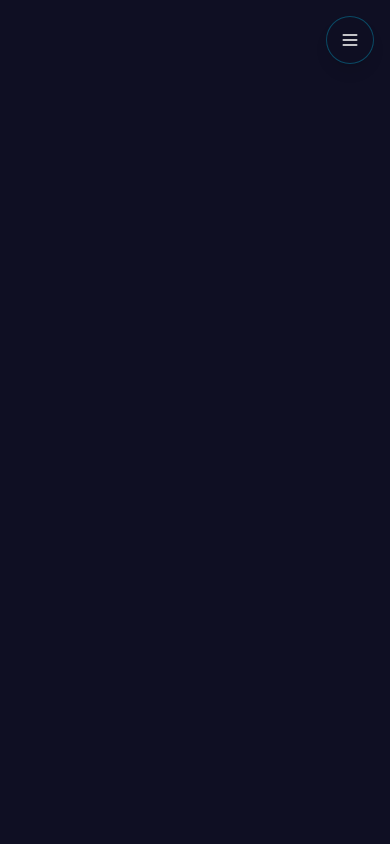
mobile menu keyboard handling › the drawer keeps a navigation landmark distinct from the desktop nav
Click the button named "Open menu" at x=350, y=40, box [326,16,374,64]
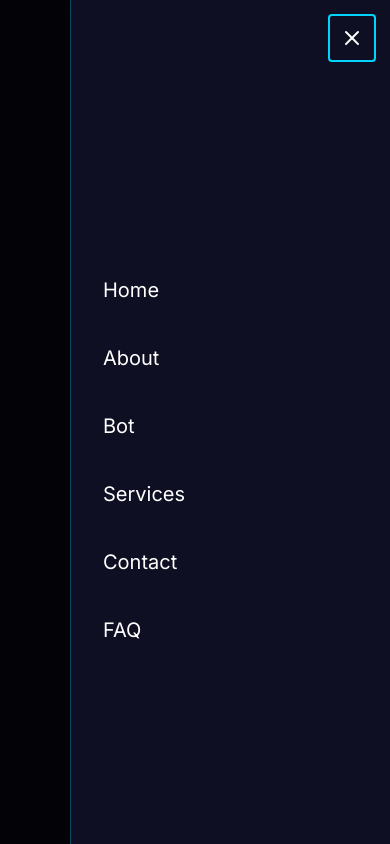
Now the navigation bar named "Mobile" is shown, box [103,278,185,642]
